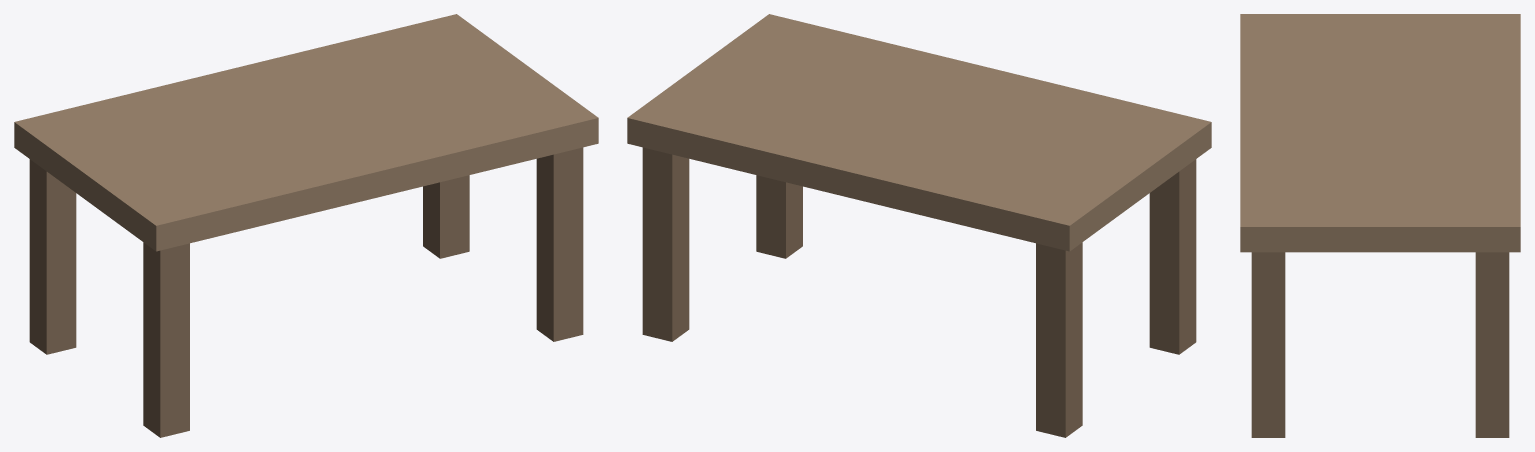
Rendered from coffee_table.glb.
3 views of the same model, side by side, from view 1: azimuth 30°, elevation 25°; view 2: azimuth 150°, elevation 25°; view 3: azimuth 270°, elevation 25° (orthographic).
Visible parts, largest first — view 1: world; view 2: world; view 3: world.
Boxes of the visible parts, x1,y1,x2,y2 form: world: [14, 14, 598, 437]; world: [627, 14, 1211, 437]; world: [1240, 14, 1520, 437].
Size of the model in its own units: 0.9 by 0.425 by 0.5.
